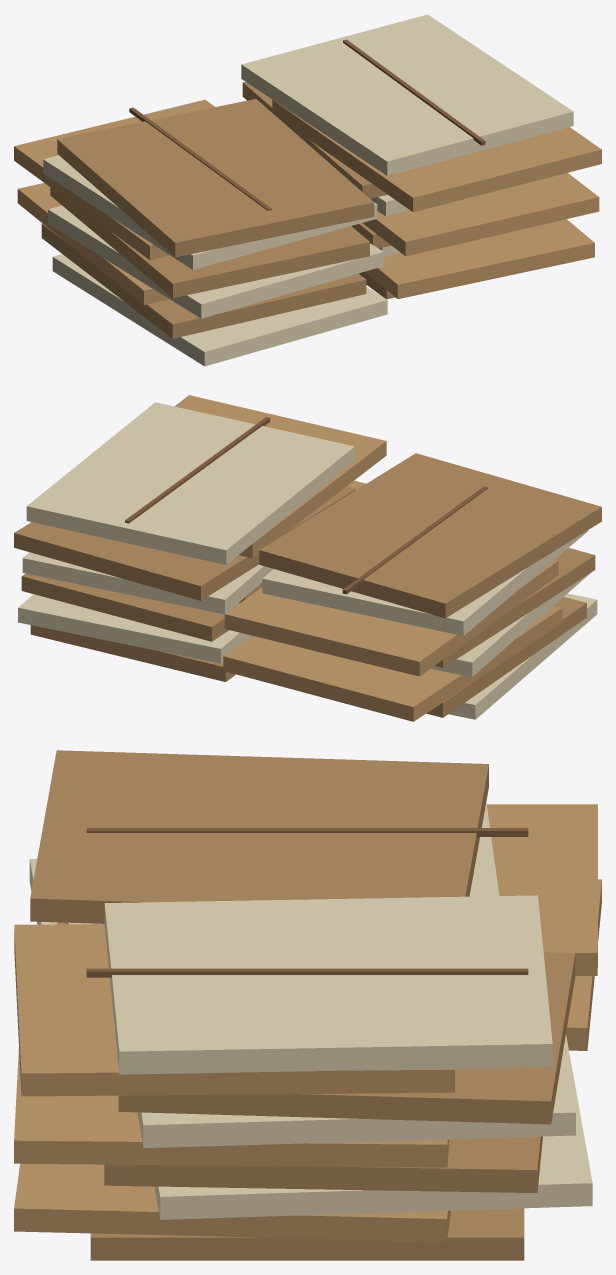
Rendered from YARD_Papers.glb.
3 renders of one model, top to bottom at view 1: azimuth 30°, elevation 25°; view 2: azimuth 150°, elevation 25°; view 3: azimuth 270°, elevation 25°, orthographic. The views are drawn at different scales.
Visible parts, largest first — view 1: Bundles1, Bundles0, Bundles2, Twine; view 2: Bundles0, Bundles1, Bundles2, Twine; view 3: Bundles0, Bundles1, Bundles2, Twine.
Boxes of the visible parts, box(x1,y1,x2,y2) form: Bundles1: box(43, 14, 573, 366); Bundles0: box(41, 82, 395, 338); Bundles2: box(14, 99, 601, 304); Twine: box(129, 39, 485, 210); Bundles0: box(14, 453, 601, 717); Bundles1: box(18, 402, 597, 719); Bundles2: box(174, 395, 562, 721); Twine: box(125, 417, 487, 594); Bundles0: box(30, 750, 575, 1260); Bundles1: box(29, 786, 592, 1219); Bundles2: box(14, 804, 601, 1241); Twine: box(86, 828, 528, 977).
Size of the model in its own units: 0.9486 by 0.2915 by 0.7187.
